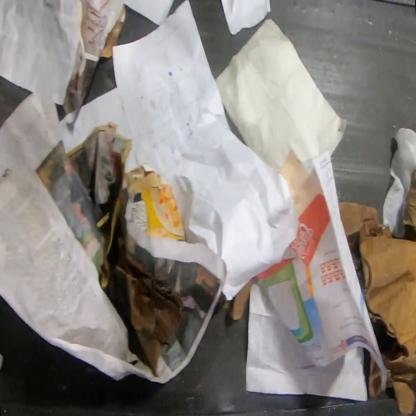cardboard: (338, 171, 416, 416), (122, 162, 188, 242), (220, 275, 258, 321), (99, 3, 127, 58), (368, 352, 382, 398)
soft_plastic: (382, 125, 415, 240)
